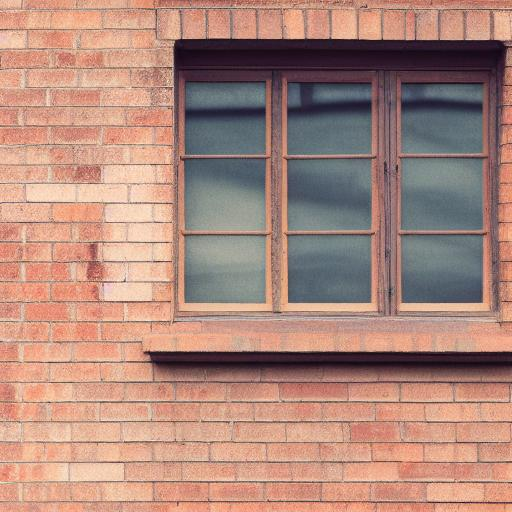Window: (144, 9, 512, 368)
